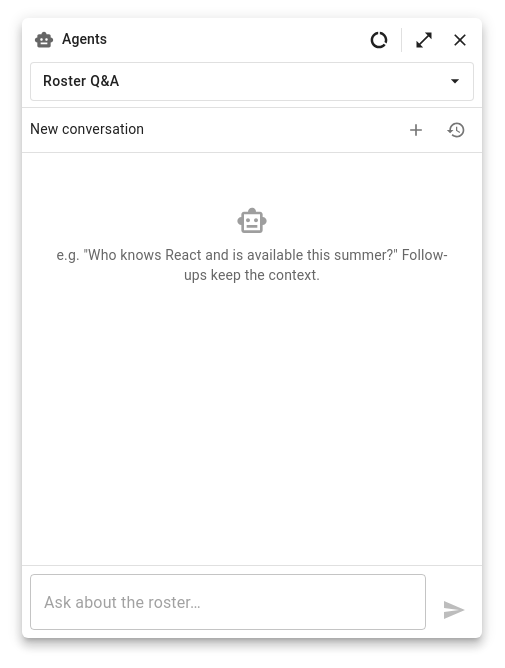
Test: opening a past conversation › New conversation empties the surface and stops sending the old id
Click the button named "Conversation history" at coordinates (456, 130), box x1=438 y1=112 x2=474 y2=148
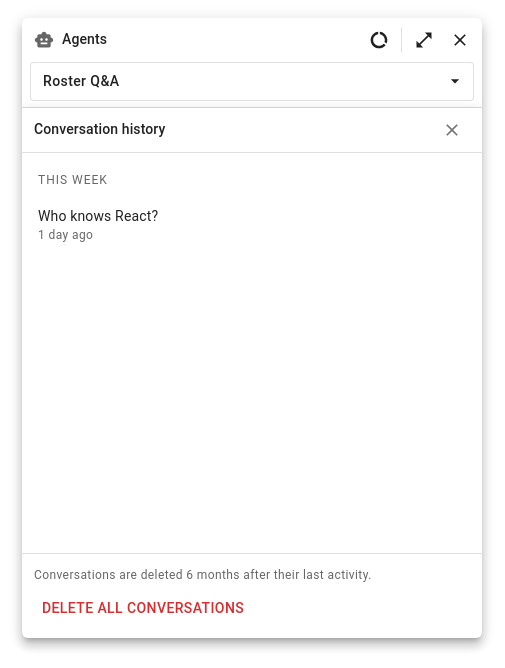
Click the button "Who knows React? 1 day ago" at coordinates (98, 225), box x1=38 y1=208 x2=158 y2=242
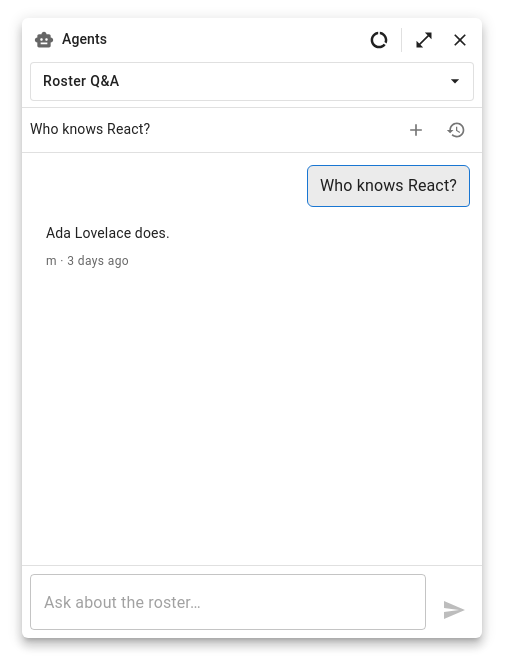
Now the text "Ada Lovelace does." is shown, box x1=46 y1=222 x2=170 y2=244
Click the button named "New conversation" at coordinates (416, 130), box x1=398 y1=112 x2=434 y2=148
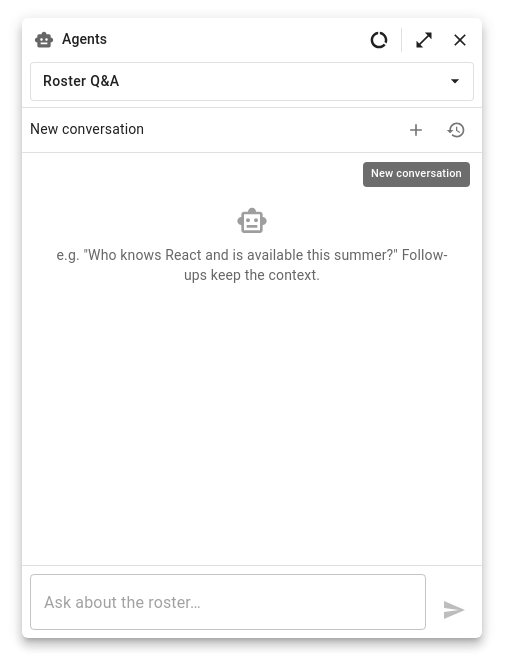
Now the text "Ada Lovelace does." is gone
Type "Something else entirely" into the text box with placeholder "Ask about the roster…" at coordinates (228, 602), box x1=44 y1=590 x2=412 y2=614
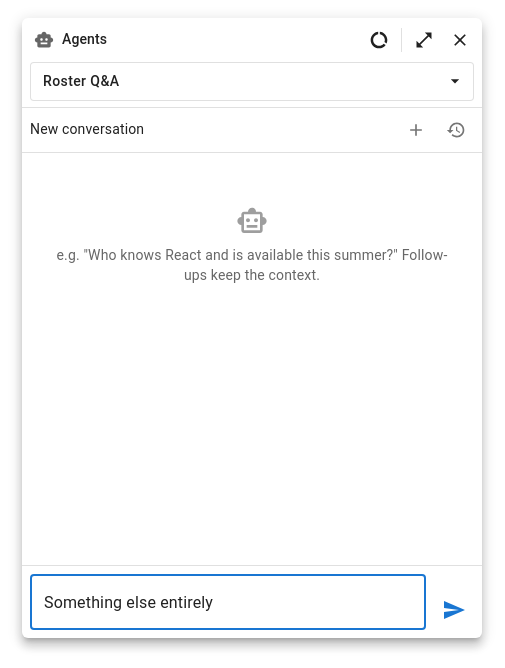
Click the button named "Send" at coordinates (454, 610), box x1=434 y1=590 x2=474 y2=630
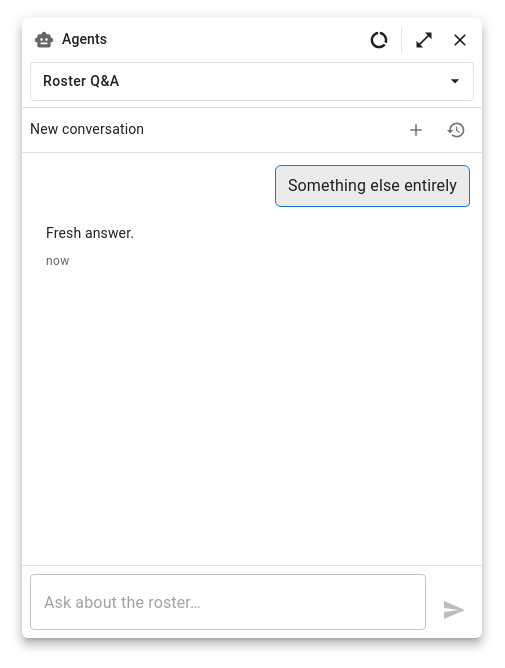
Now the text "Fresh answer." is shown, box x1=46 y1=222 x2=134 y2=244
